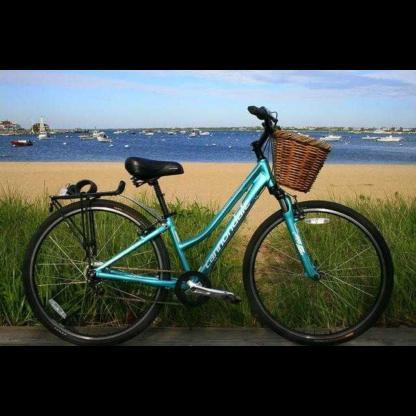Bicycle: (11, 88, 399, 345)
